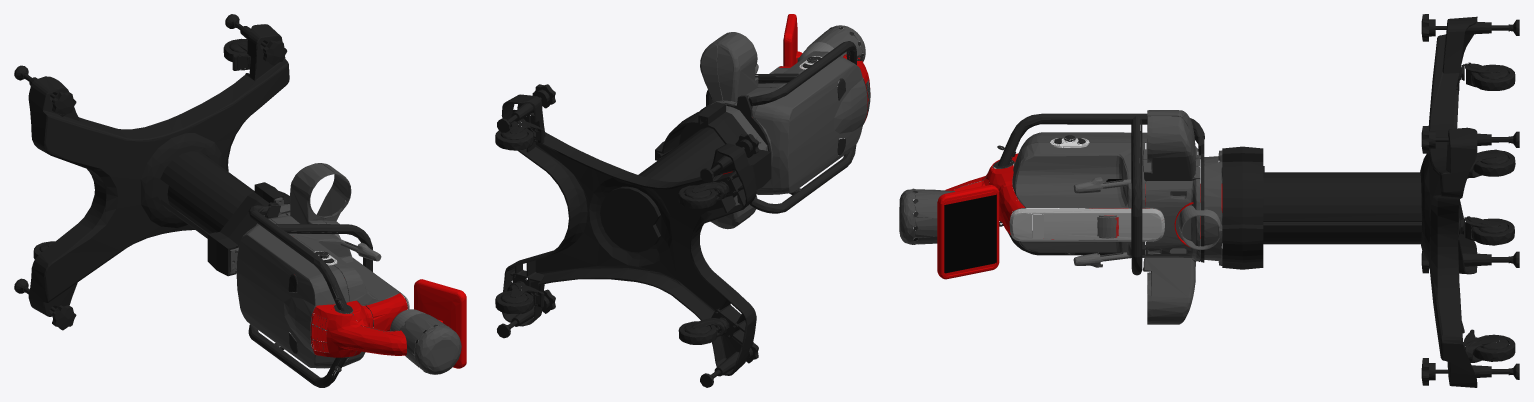
File: baxter.glb
3 renders of one model, left to right at view 1: azimuth 30°, elevation 25°; view 2: azimuth 150°, elevation 25°; view 3: azimuth 270°, elevation 25°, orthographic. The views are drawn at different scales.
Parts seen in each view (by area): view 1: base, right_upper_shoulder; view 2: base; view 3: base, right_upper_shoulder, right_lower_forearm.
Boxes of the visible parts, x1,y1,x2,y2 form: base: (14, 14, 466, 387); right_upper_shoulder: (295, 232, 381, 326); base: (495, 14, 870, 387); base: (899, 14, 1519, 387); right_upper_shoulder: (1073, 177, 1153, 267); right_lower_forearm: (1178, 203, 1222, 249).
Size of the model in its own units: 0.9143 by 0.8226 by 1.8.
